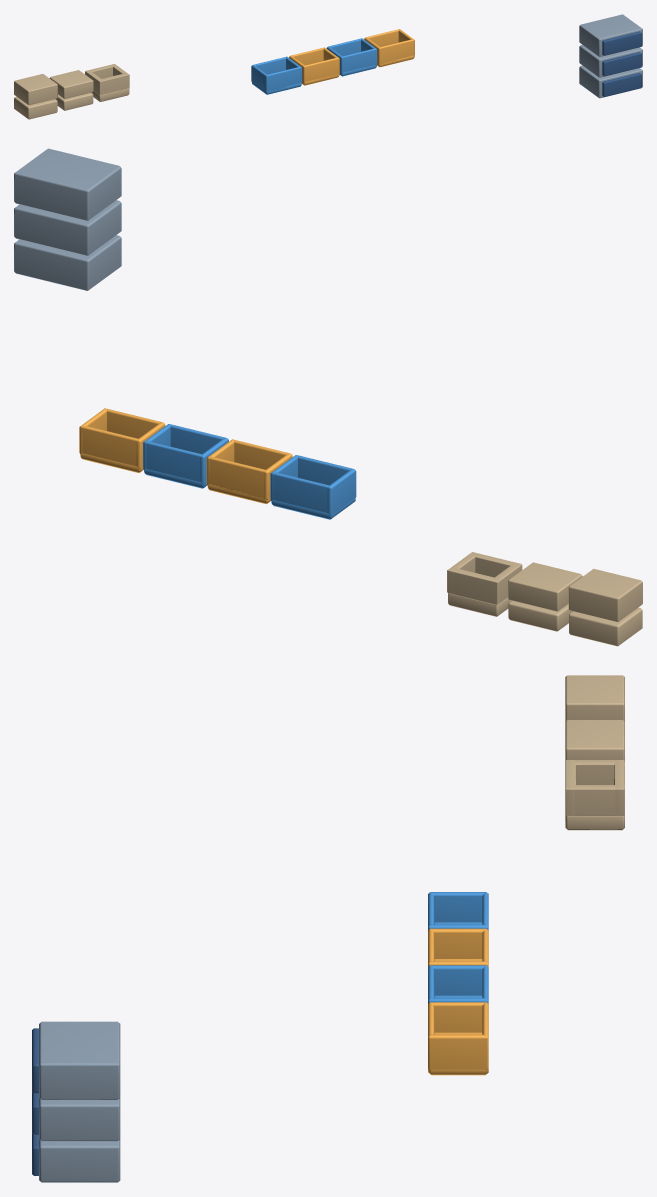
File: Storage.fbx
The picture shows the model from 3 angles, top to bottom: view 1: azimuth 30°, elevation 25°; view 2: azimuth 150°, elevation 25°; view 3: azimuth 270°, elevation 25°; orthographic projection. The views are drawn at different scales.
Parts seen in each view (by area): view 1: drawer unit.002, shipping carton lid, shipping carton lid.001, drawer unit, drawer unit.001, drawer face, drawer face.001, drawer face.002, shipping carton base, sorting bin short side.006, sorting bin short side, sorting bin short side.004 (+11 smaller); view 2: drawer unit.002, drawer unit, drawer unit.001, shipping carton lid, shipping carton lid.001, shipping carton base, sorting bin short side.003, sorting bin short side.001, sorting bin short side.007, sorting bin short side.005, shipping carton end.001, shipping carton base.001 (+7 smaller); view 3: drawer unit.002, drawer unit, drawer unit.001, shipping carton lid, shipping carton lid.001, sorting bin long side.007, shipping carton side.001, sorting bin long side.002, sorting bin long side.004, sorting bin long side.006, sorting bin long side, shipping carton side (+1 smaller).
Boxes of the visible parts, x1=… form: drawer unit.002: x1=579, y1=14, x2=642, y2=56; shipping carton lid: x1=14, y1=74, x2=57, y2=105; shipping carton lid.001: x1=49, y1=70, x2=93, y2=98; drawer unit: x1=579, y1=65, x2=642, y2=98; drawer unit.001: x1=579, y1=45, x2=642, y2=77; drawer face: x1=602, y1=73, x2=641, y2=97; drawer face.001: x1=602, y1=52, x2=641, y2=76; drawer face.002: x1=602, y1=31, x2=641, y2=55; shipping carton base: x1=14, y1=96, x2=57, y2=119; sorting bin short side.006: x1=380, y1=39, x2=414, y2=64; sorting bin short side: x1=267, y1=67, x2=301, y2=91; sorting bin short side.004: x1=342, y1=48, x2=376, y2=72; drawer unit.002: x1=14, y1=148, x2=121, y2=220; drawer unit: x1=14, y1=235, x2=121, y2=290; drawer unit.001: x1=14, y1=200, x2=121, y2=255; shipping carton lid: x1=568, y1=568, x2=642, y2=622; shipping carton lid.001: x1=508, y1=562, x2=582, y2=611; shipping carton base: x1=569, y1=607, x2=642, y2=646; sorting bin short side.003: x1=208, y1=456, x2=266, y2=499; sorting bin short side.001: x1=271, y1=472, x2=329, y2=514; sorting bin short side.007: x1=80, y1=425, x2=139, y2=468; sorting bin short side.005: x1=144, y1=441, x2=202, y2=482; shipping carton end.001: x1=447, y1=567, x2=501, y2=604; shipping carton base.001: x1=508, y1=601, x2=572, y2=631; drawer unit.002: x1=39, y1=1021, x2=120, y2=1100; drawer unit: x1=39, y1=1139, x2=120, y2=1182; drawer unit.001: x1=39, y1=1098, x2=120, y2=1141; shipping carton lid: x1=565, y1=675, x2=624, y2=721; shipping carton lid.001: x1=565, y1=720, x2=624, y2=760; sorting bin long side.007: x1=428, y1=1034, x2=488, y2=1070; shipping carton side.001: x1=565, y1=785, x2=624, y2=815; sorting bin long side.002: x1=428, y1=928, x2=486, y2=958; sorting bin long side.004: x1=428, y1=965, x2=486, y2=995; sorting bin long side.006: x1=428, y1=1002, x2=486, y2=1032; sorting bin long side: x1=428, y1=892, x2=488, y2=922; shipping carton side: x1=565, y1=760, x2=623, y2=784.
Bounding box in the file's own units: 1029 × 143 × 547.
